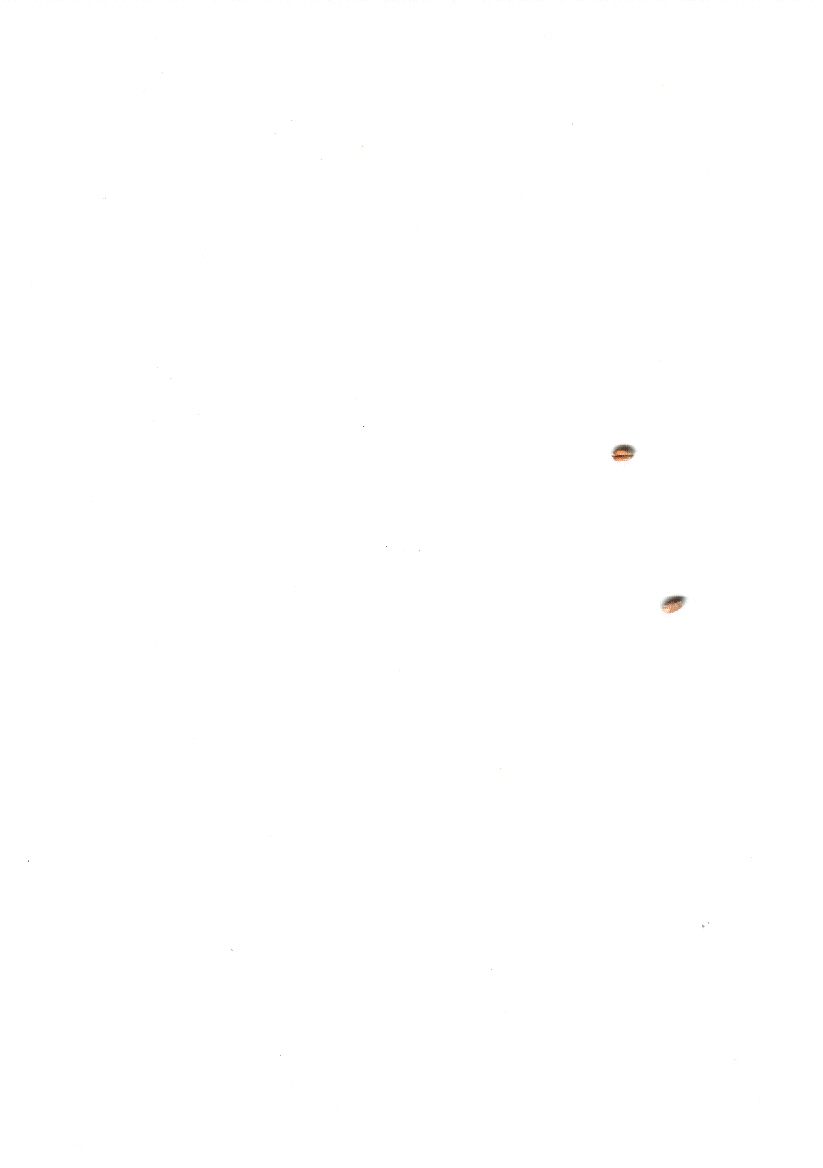grains: (654, 582, 698, 630), (602, 432, 646, 475)
